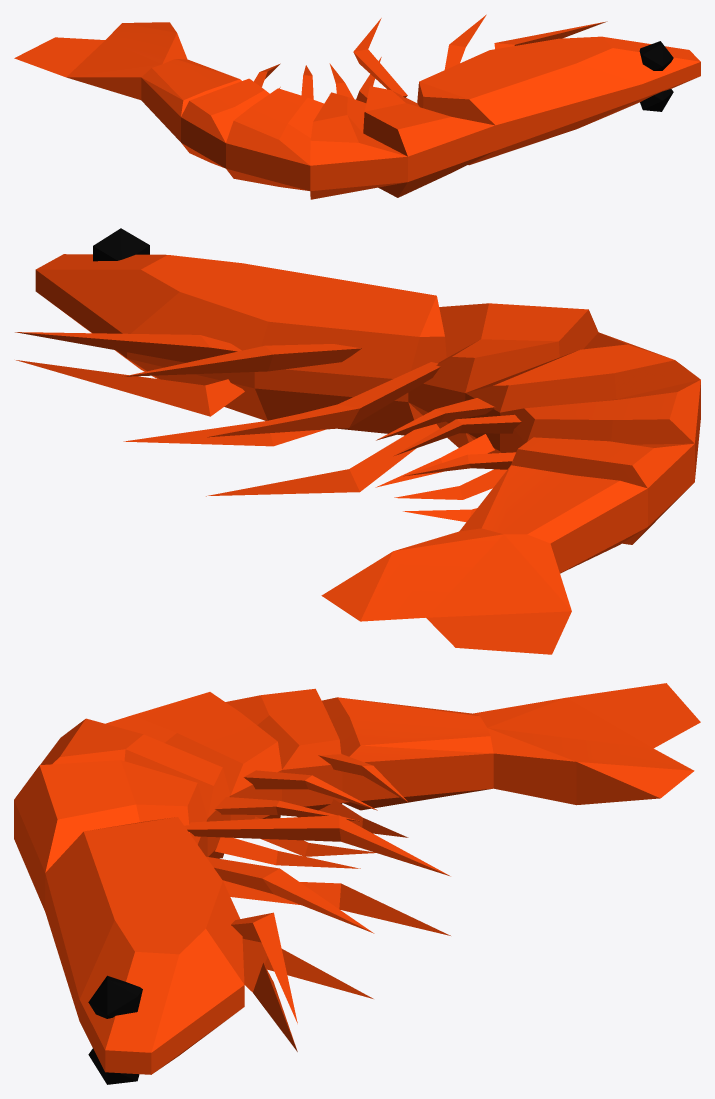
Rendered from Shrimp.glb.
The picture shows the model from 3 angles, top to bottom: view 1: azimuth 30°, elevation 25°; view 2: azimuth 150°, elevation 25°; view 3: azimuth 270°, elevation 25°; orthographic projection. The views are drawn at different scales.
Parts seen in each view (by area): view 1: Shrimp; view 2: Shrimp; view 3: Shrimp.
Boxes of the visible parts, x1,y1,x2,y2 form: Shrimp: (14,14,700,199); Shrimp: (15,228,700,654); Shrimp: (14,683,700,1084).
Size of the model in its own units: 0.0953 by 0.0123 by 0.0727.
Materials: 1 (1 with a texture image).
